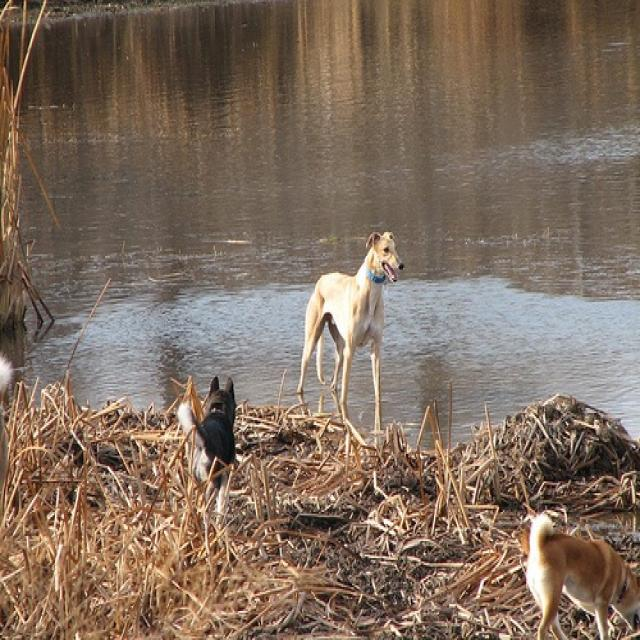dog: (298, 225, 408, 456), (520, 512, 638, 638), (172, 364, 250, 529)
